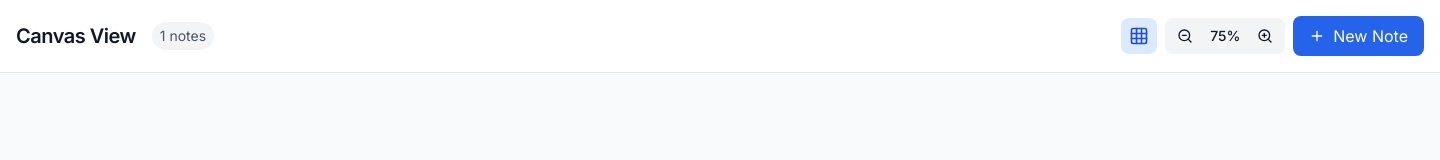
Test: NotesCanvas › handles zoom controls
This screenshot has width=1440, height=160.
Check: the button "75%" is shown, box [1201,22,1249,50]
Step 1. Click the button titled "Zoom in" → [1265, 36], box [1253,24,1277,48]
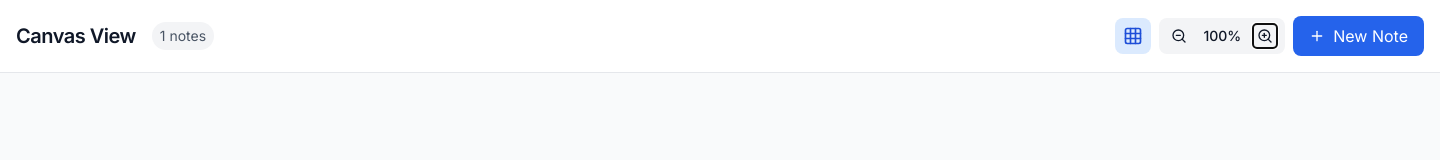
Check: the button "100%" is shown, box [1196,22,1249,50]
Step 2. Click the button titled "Zoom out" → [1180, 36], box [1168,24,1192,48]
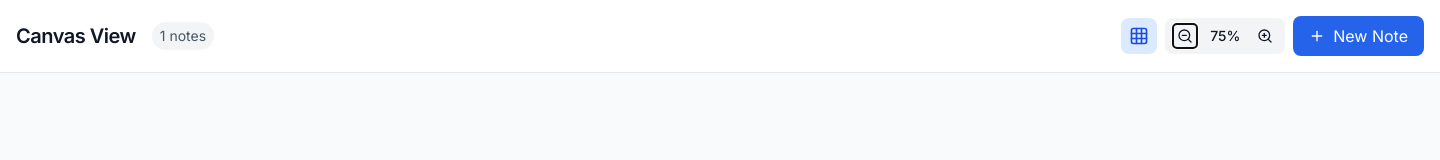
Step 3. Click the button titled "Zoom out" → [1185, 36], box [1173,24,1197,48]
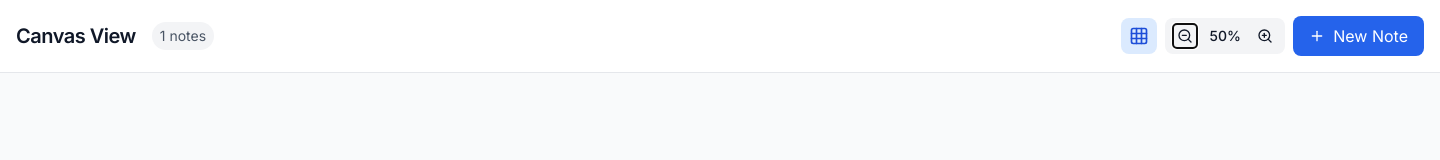
Check: the button "50%" is shown
Step 4. Click the button titled "Reset zoom" → [1225, 36], box [1201,22,1249,50]
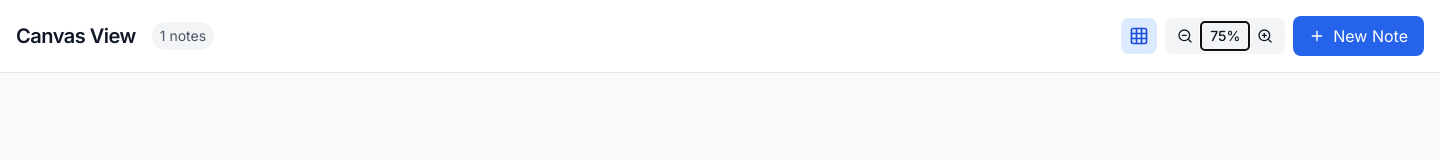
Check: the button "75%" is shown, box [1201,22,1249,50]
